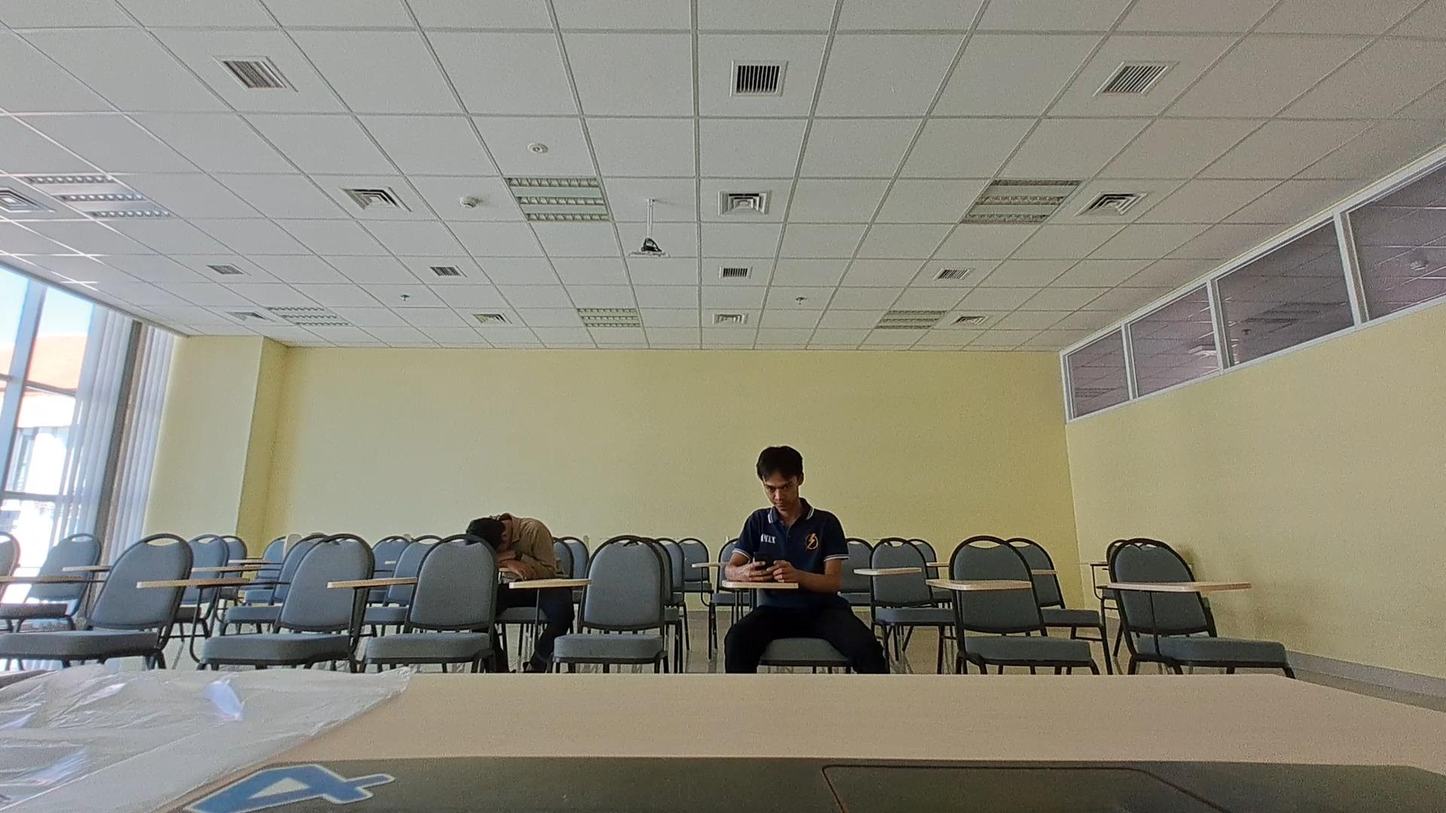phone: (720, 442, 848, 584)
sleep: (454, 508, 559, 578)
